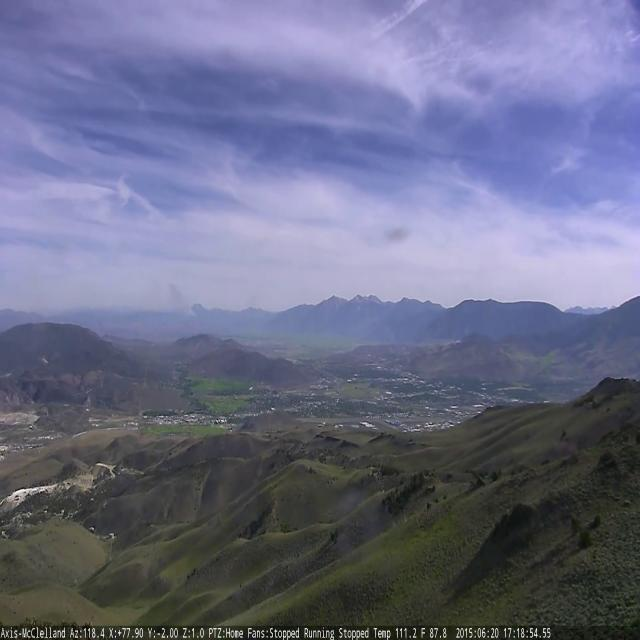smoke: (157, 280, 196, 317)
